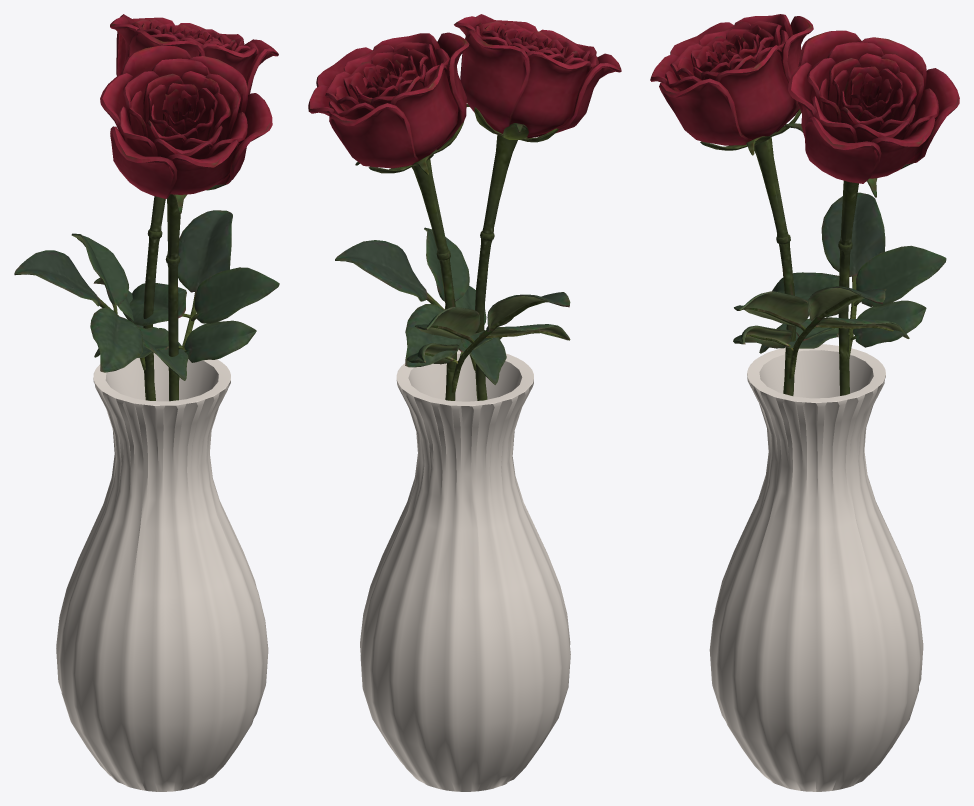
The model's file is vase-rose.glb.
3 renders of one model, left to right at view 1: azimuth 30°, elevation 25°; view 2: azimuth 150°, elevation 25°; view 3: azimuth 270°, elevation 25°, orthographic.
Parts seen in each view (by area): view 1: vase-rose; view 2: vase-rose; view 3: vase-rose.
Boxes of the visible parts, x1,y1,x2,y2 form: vase-rose: (14,14,279,791); vase-rose: (308,14,621,791); vase-rose: (650,14,959,791).
Size of the model in its own units: 0.1441 by 0.3982 by 0.1517.
Materials: 2 (2 with a texture image).
